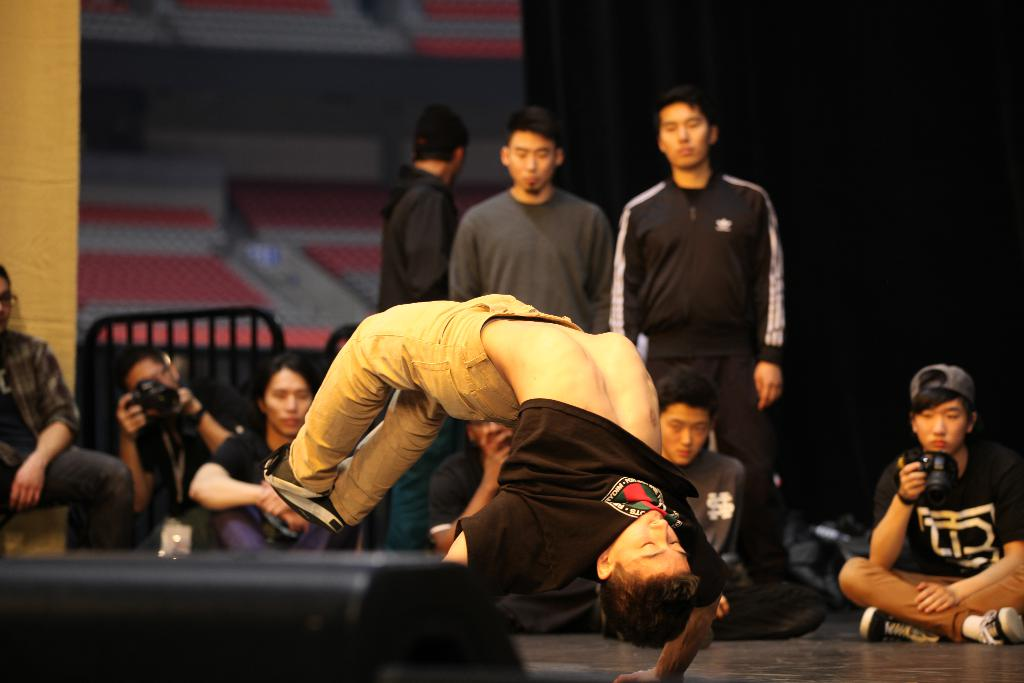person: (424, 415, 516, 549)
